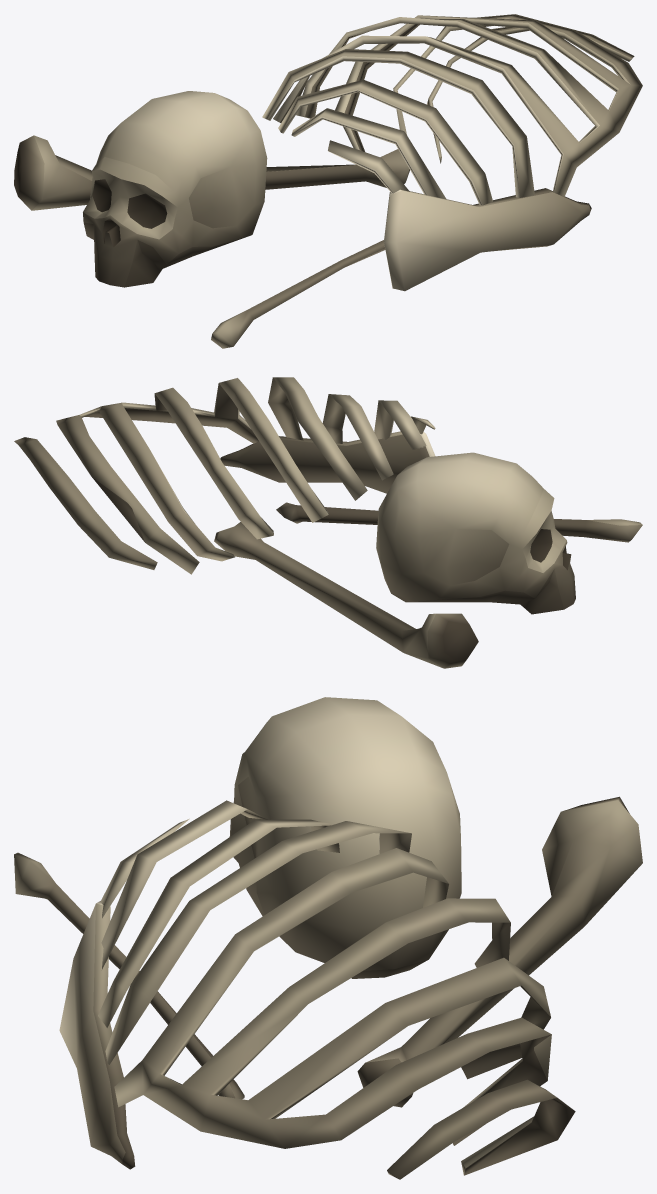
The model's file is Human_Remains_1B.fbx.
The picture shows the model from 3 angles, top to bottom: view 1: azimuth 30°, elevation 25°; view 2: azimuth 150°, elevation 25°; view 3: azimuth 270°, elevation 25°; orthographic projection. The views are drawn at different scales.
Parts seen in each view (by area): view 1: Human_Remains_1B; view 2: Human_Remains_1B; view 3: Human_Remains_1B.
Boxes of the visible parts, x1,y1,x2,y2 form: Human_Remains_1B: [14, 14, 642, 348]; Human_Remains_1B: [14, 377, 642, 668]; Human_Remains_1B: [14, 697, 642, 1179].
Size of the model in its own units: 65.49 by 19.18 by 41.89.
